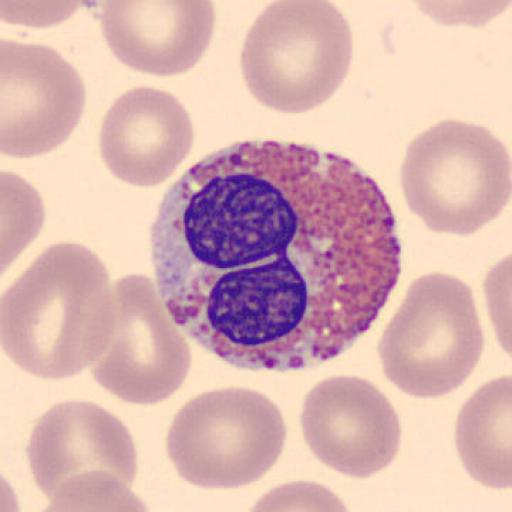RBC: (1, 240, 116, 382), (376, 270, 486, 400), (90, 270, 193, 407), (398, 116, 512, 238), (164, 384, 288, 492), (239, 0, 354, 116), (25, 398, 140, 506), (299, 373, 404, 480), (98, 83, 196, 189), (2, 38, 88, 158), (96, 1, 218, 78), (452, 374, 512, 491), (34, 468, 152, 512), (2, 168, 46, 276), (243, 478, 354, 512), (482, 251, 512, 363), (409, 0, 512, 29), (2, 0, 85, 30), (0, 464, 21, 512)
WBC: (144, 136, 400, 372), (179, 252, 403, 372)
